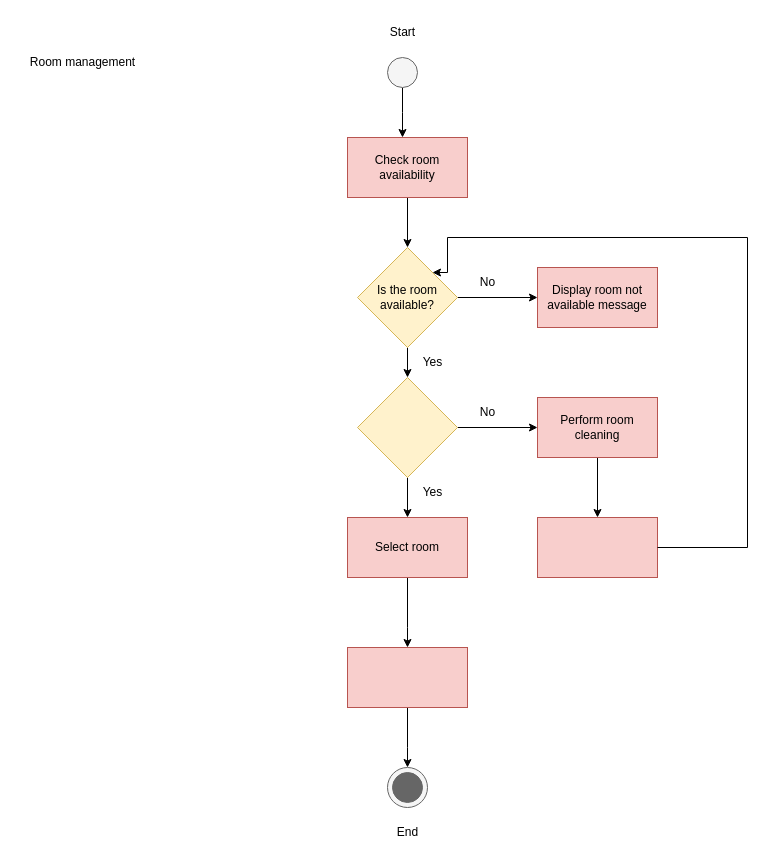
This 773x864 diagram has some shape labels left out. The shapes that lost their labels are listed below. From the top down, each one's centre as x and y in pixels, then its label:
At pixel 407 427: "Is the room clean?".
At pixel 597 547: "Update room status".
At pixel 407 677: "Confirm selected room".
